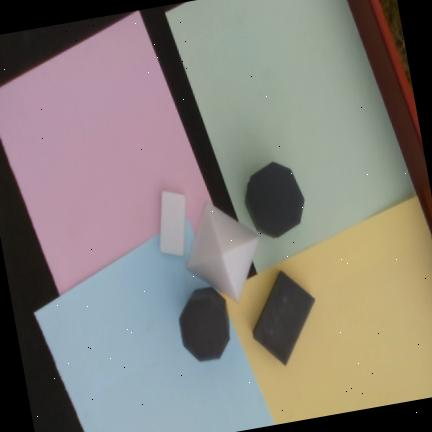Paralelepipedo: (252, 270, 315, 367), (160, 190, 187, 257)
Piramide: (185, 202, 261, 304)
Prisma_hexagonal: (244, 162, 305, 238), (179, 286, 230, 362)
